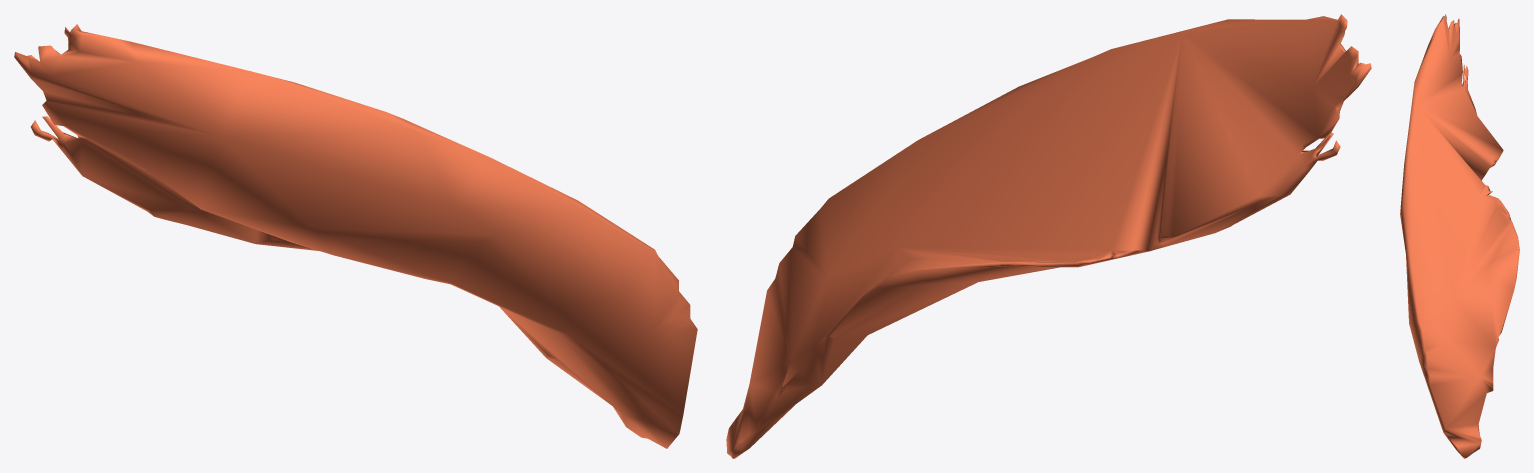
File: Corrugator_supercilii.r_Generated_Mesh_From_X3D.992.glb
The picture shows the model from 3 angles, left to right: view 1: azimuth 30°, elevation 25°; view 2: azimuth 150°, elevation 25°; view 3: azimuth 270°, elevation 25°; orthographic projection. The views are drawn at different scales.
Parts seen in each view (by area): view 1: Corrugator_supercilii.r_Generated_Mesh_From_X3D.992; view 2: Corrugator_supercilii.r_Generated_Mesh_From_X3D.992; view 3: Corrugator_supercilii.r_Generated_Mesh_From_X3D.992.
Part boxes in pixels (bbox=[...]): Corrugator_supercilii.r_Generated_Mesh_From_X3D.992: bbox=[14, 24, 697, 448]; Corrugator_supercilii.r_Generated_Mesh_From_X3D.992: bbox=[726, 14, 1371, 458]; Corrugator_supercilii.r_Generated_Mesh_From_X3D.992: bbox=[1400, 14, 1519, 458].
Bounding box in the file's own units: 0.0226 × 0.0191 × 0.00705.
